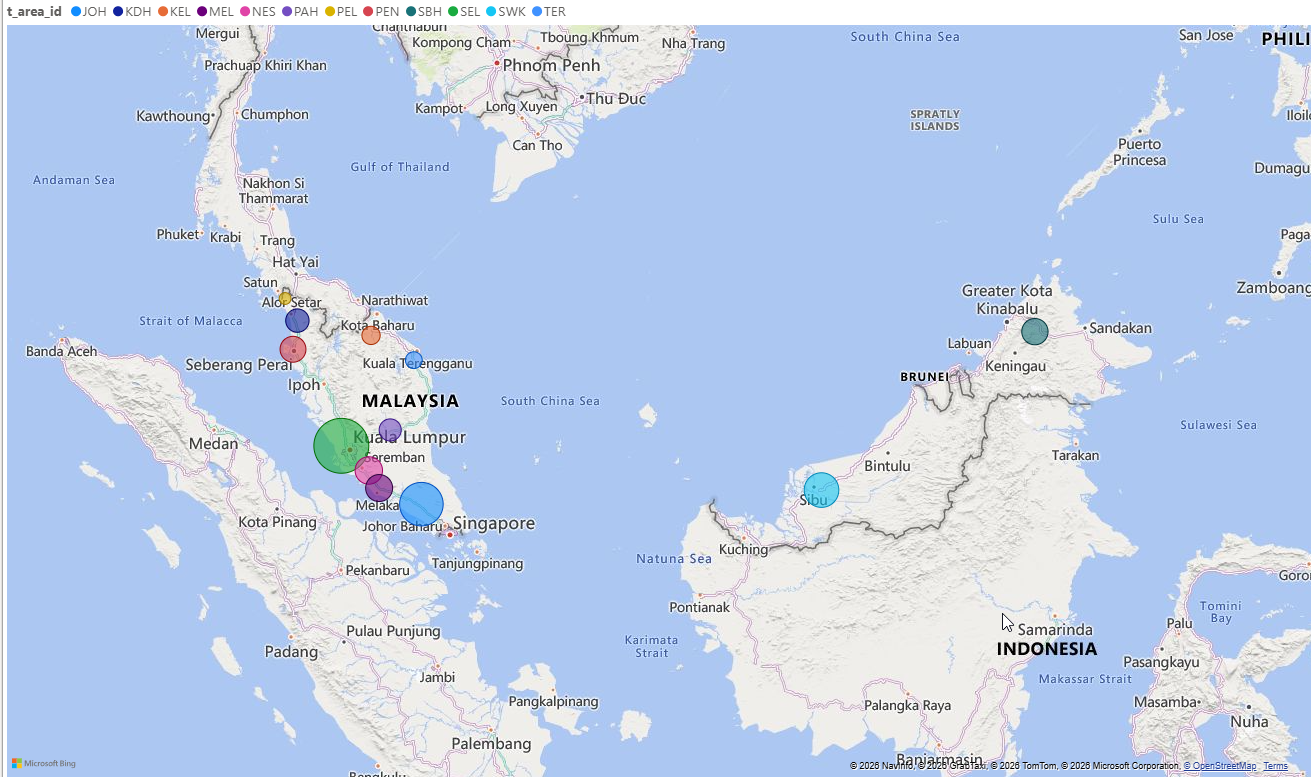

Layout of this report page (visuals, bound fields, positions):
{"tool":"powerbi","page":{"name":"Page 1","canvas":[1280,720],"ordinal":0},"visuals":[{"type":"map","fields":{"Y":["cleaned_heatmap_final.Lat"],"X":["cleaned_heatmap_final.Lon"],"Series":["cleaned_heatmap_final.t_area_id"],"Size":["Sum(cleaned_heatmap_final.member_count)"]},"box":[0,0,280.1,280.1],"z":0}]}

Visuals, with their boxes in screenshot pixels (x1, y1, x2, y2):
map - cleaned_heatmap_final.Lat x cleaned_heatmap_final.Lon: 0/20/273/293
